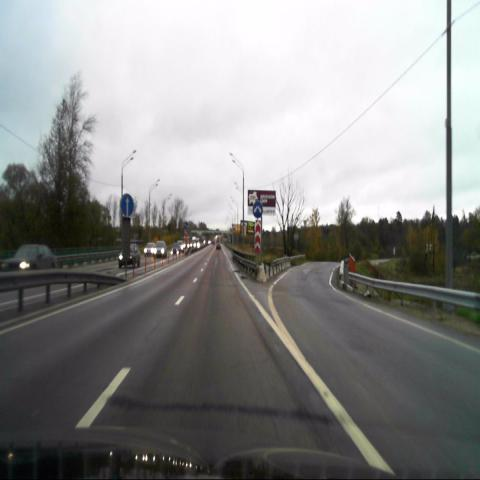4_1_1: (120, 193, 134, 215)
